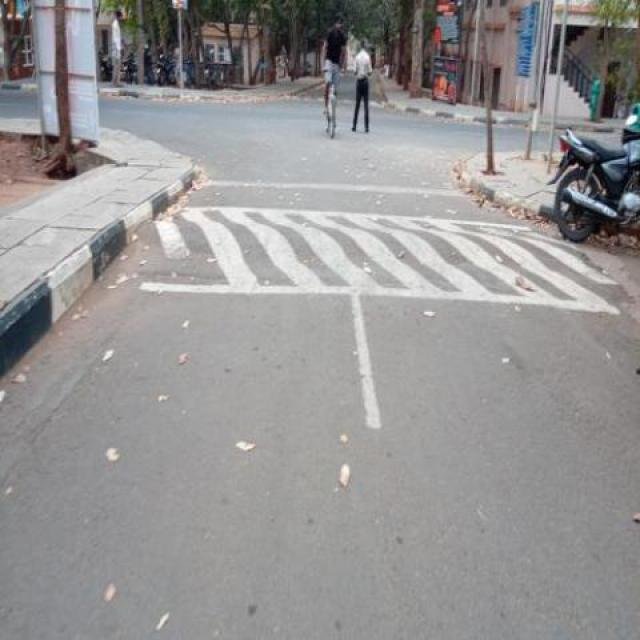Speed Bump: (141, 201, 612, 311)
